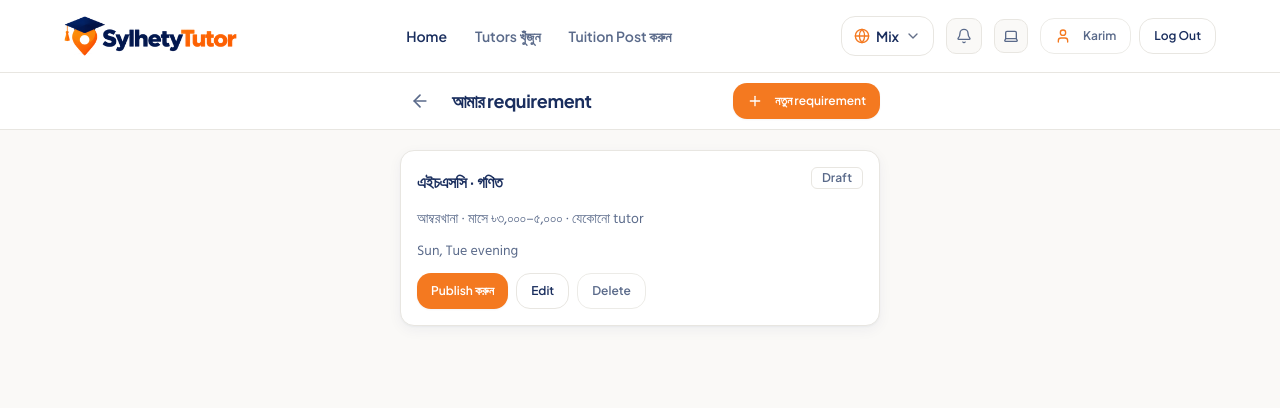
Test: MyRequirements page › explains the limit in the guardian's language when publishing is refused
Click the button "Publish করুন" at (463, 291), box [417,273,508,309]
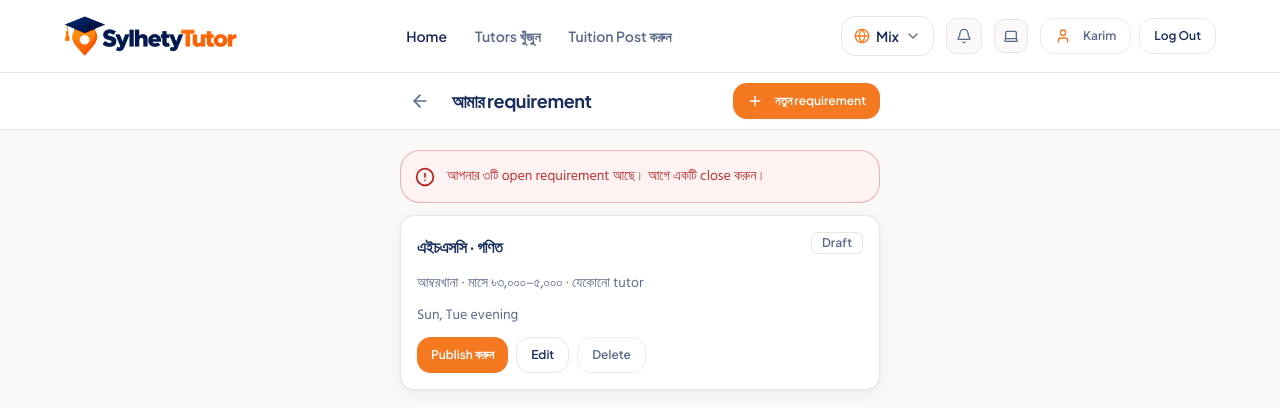
Check: the text "আপনার ৩টি open requirement আছে। আগে একটি close করুন।" is shown, box [447,164,766,187]
